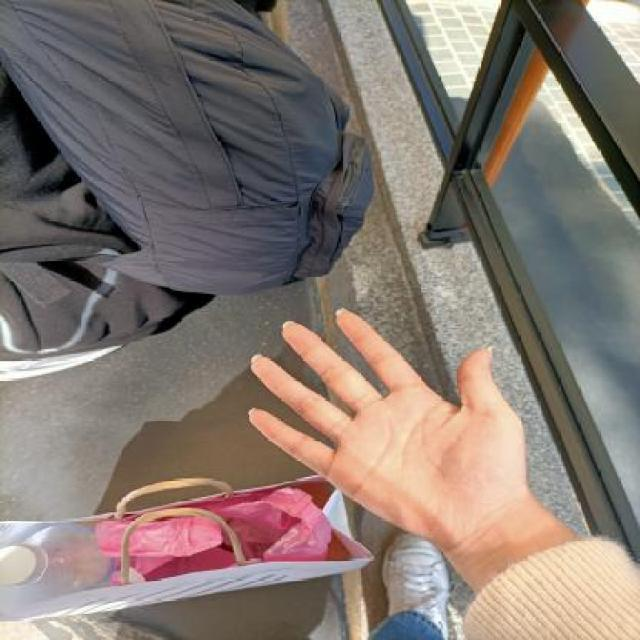bare_hand: (223, 293, 542, 555)
